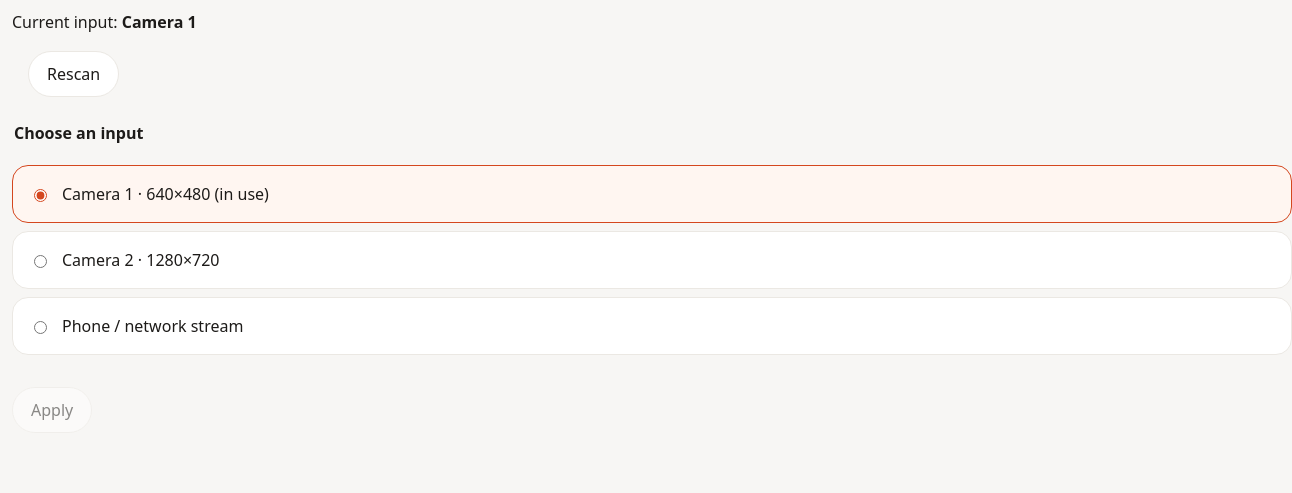
notifies the dashboard only after a successful switch
This screenshot has width=1292, height=493.
Click the radio button labelled "Camera 2 · 1280×720" at coordinates (40, 262), box [34, 255, 47, 268]
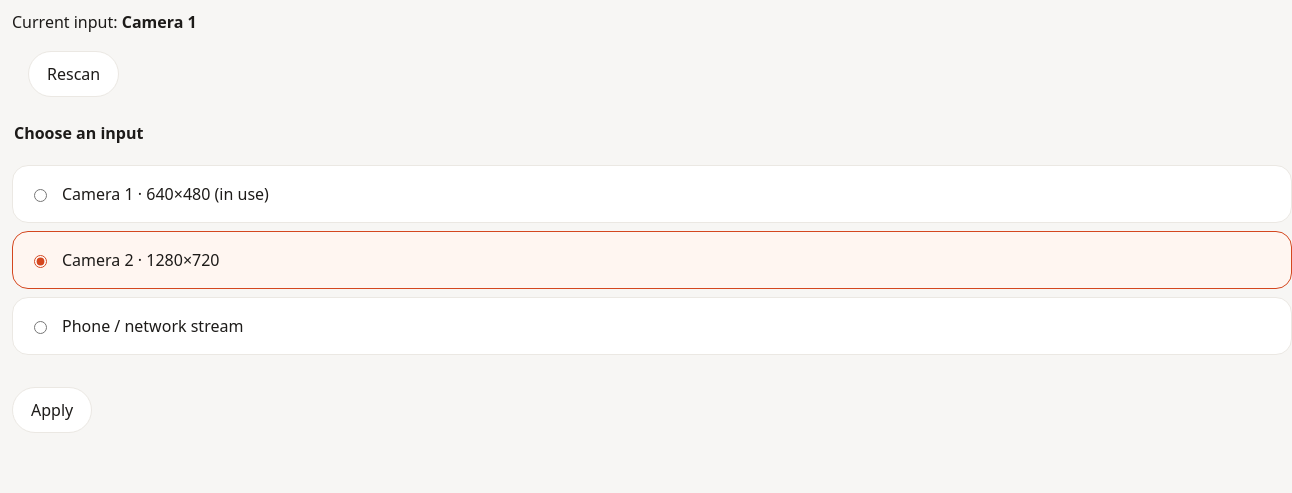
Click the button "Apply" at coordinates (52, 410), box [12, 387, 92, 433]
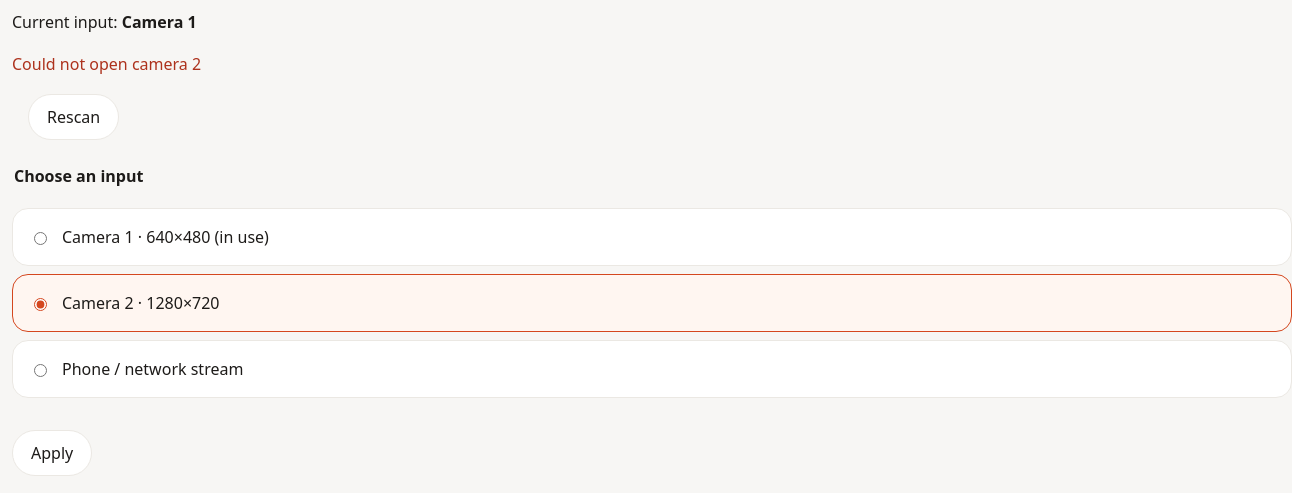
Expected: the text "Could not open camera 2" is shown, [12, 53, 201, 75]
Click the button "Apply" at coordinates (52, 453), box [12, 430, 92, 476]
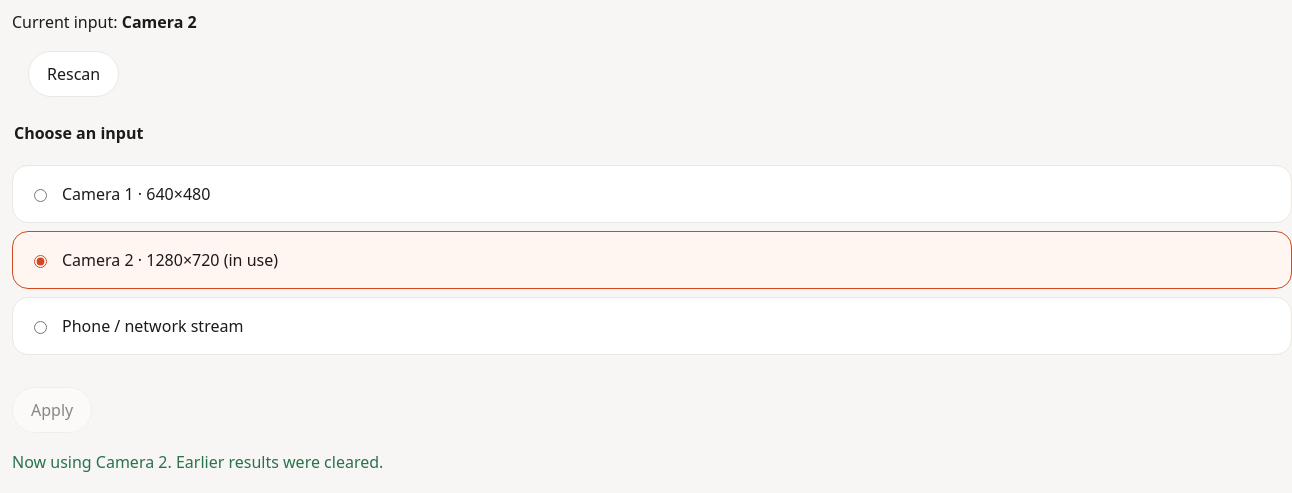
Expected: the text "Now using Camera 2. Earlier results were cleared." is shown, [12, 451, 383, 473]
